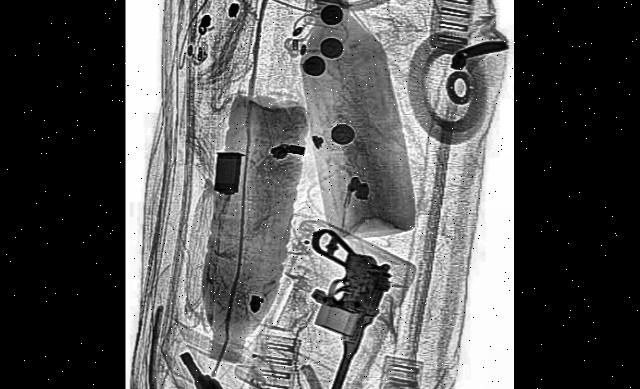Gun: (271, 187, 396, 389), (174, 347, 297, 389)
